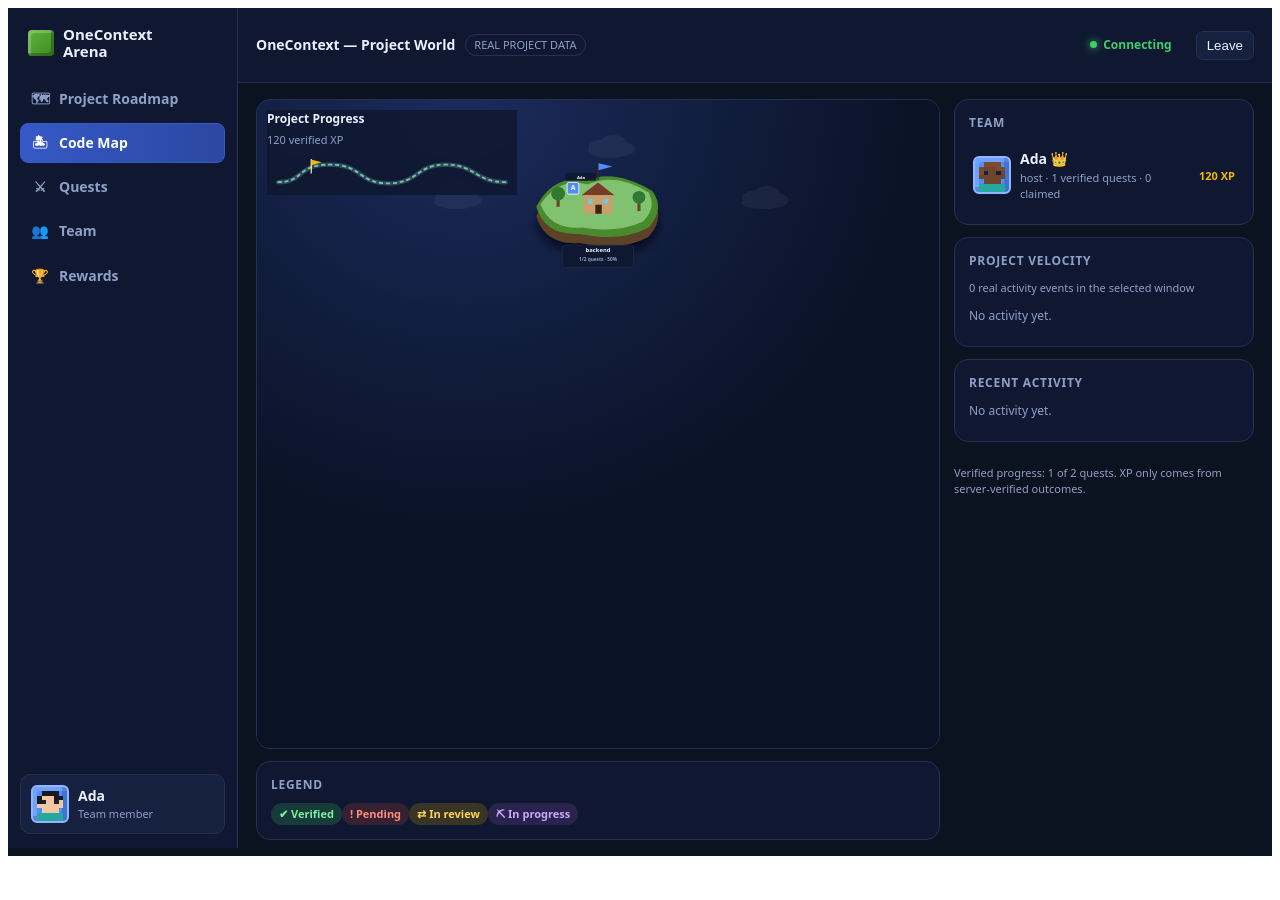
Test: ArenaWorkspace › shows real quest evidence and calls the existing claim callback
Later steps or results of the test are not shown.
Click the tab "⚔ Quests": (122, 187) [20,167,225,207]
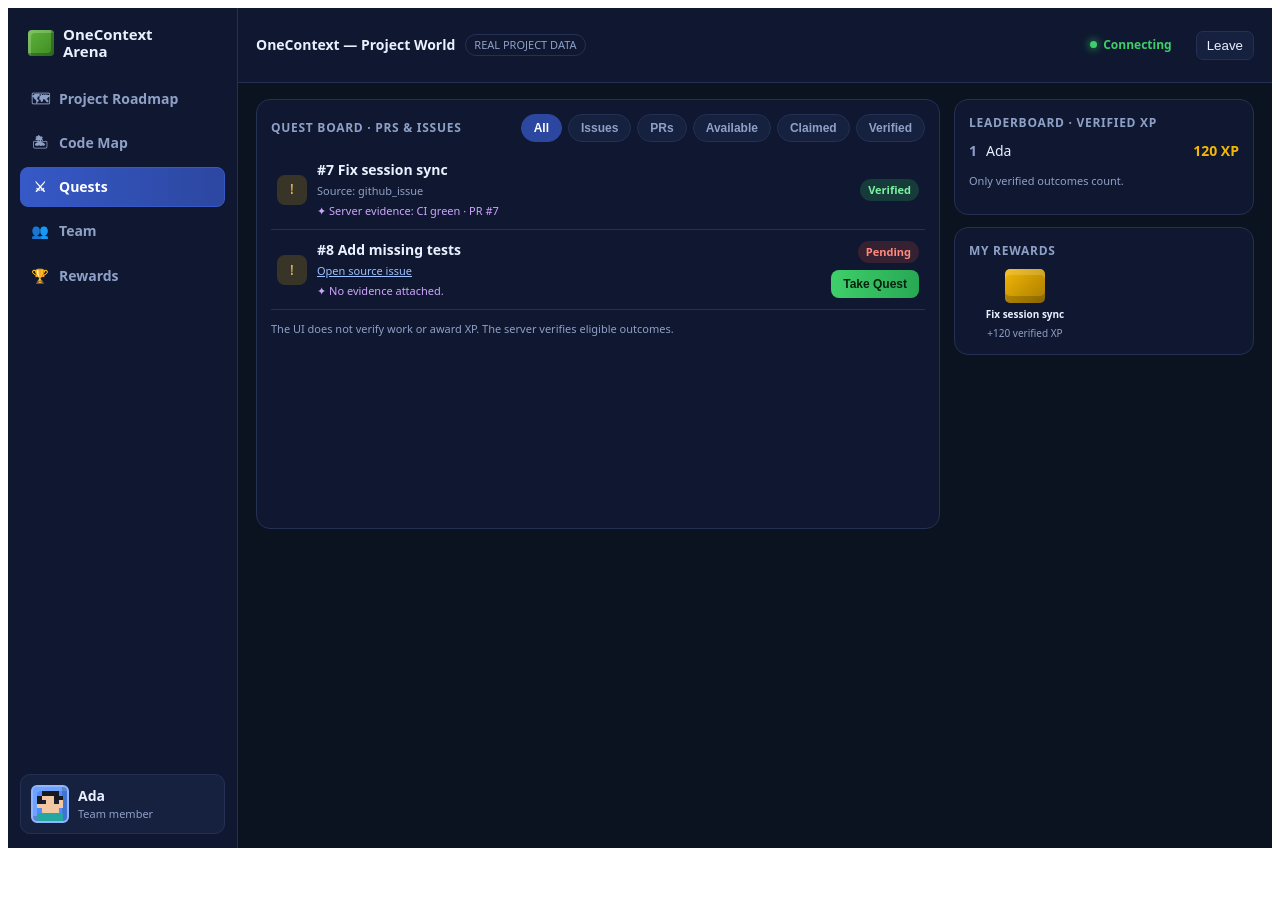
expect the text "✦ Server evidence: CI green · PR #7" is shown: met, box [317,203,499,218]
